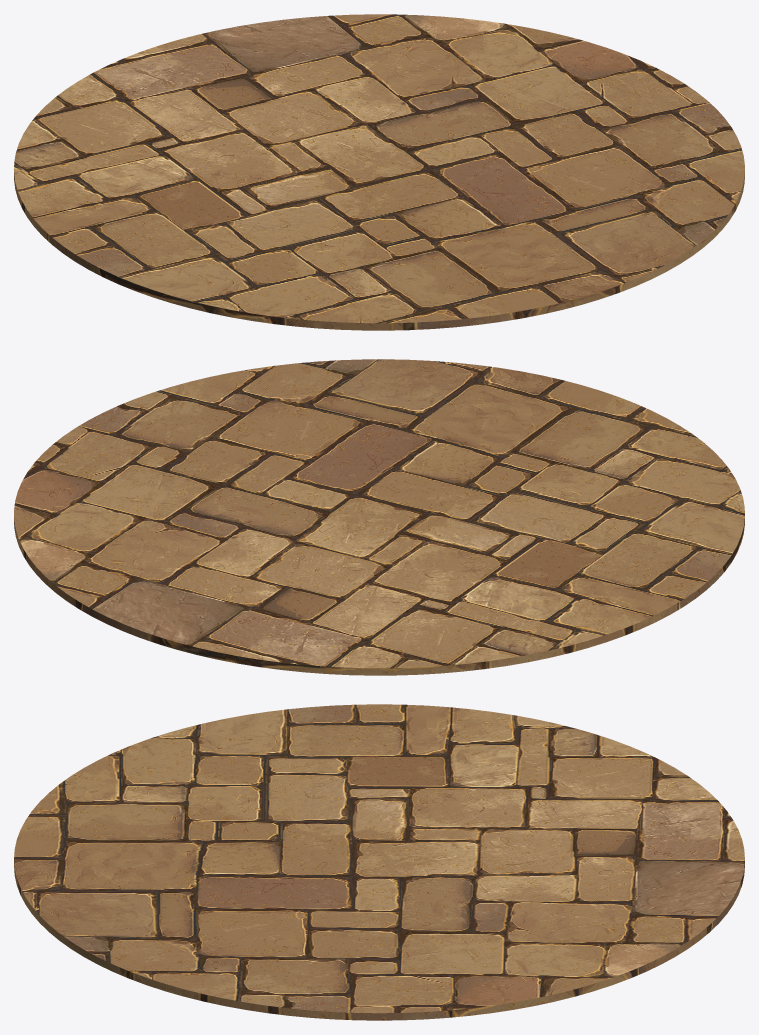
Rendered from floor.obj.
The picture shows the model from 3 angles, top to bottom: view 1: azimuth 30°, elevation 25°; view 2: azimuth 150°, elevation 25°; view 3: azimuth 270°, elevation 25°; orthographic projection.
Visible parts, largest first — view 1: 1_low.001; view 2: 1_low.001; view 3: 1_low.001.
Part boxes in pixels (bbox=[...]): 1_low.001: bbox=[14, 14, 744, 330]; 1_low.001: bbox=[14, 359, 744, 675]; 1_low.001: bbox=[14, 704, 744, 1020].
Bounding box in the file's own units: 152 × 1.7 × 152.
Materials: 1 (1 with a texture image).
